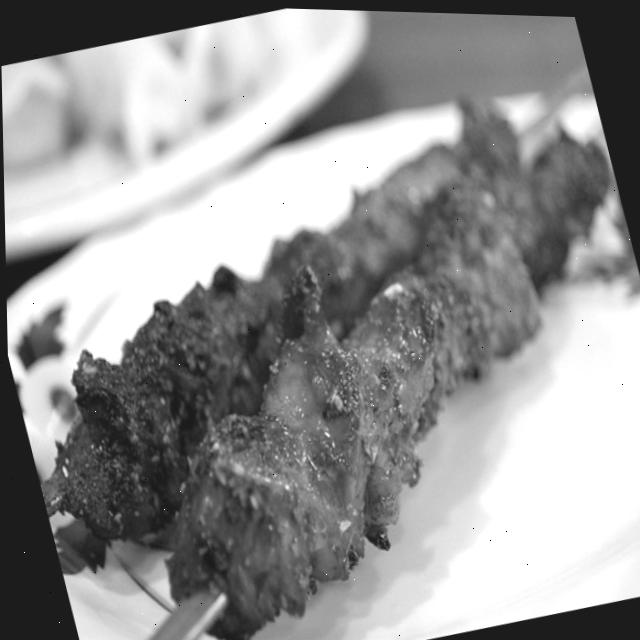烧串烤肉: (6, 88, 640, 640)
